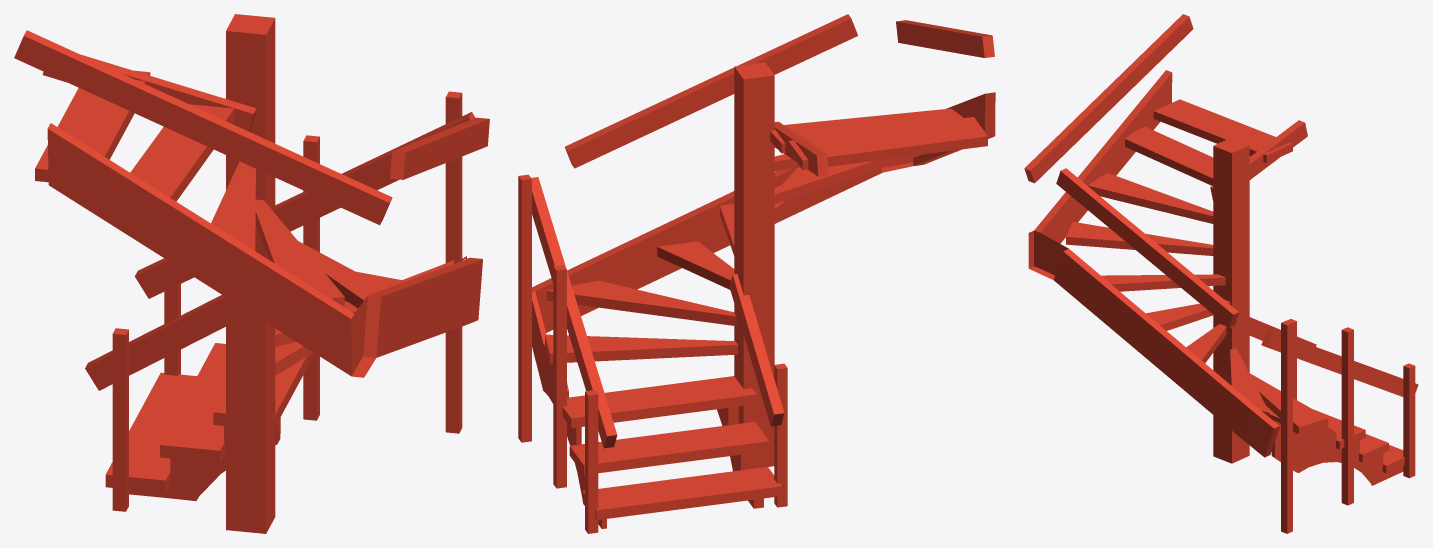
The model's file is scari_rotund_91c68622.glb.
3 renders of one model, left to right at view 1: azimuth 30°, elevation 25°; view 2: azimuth 150°, elevation 25°; view 3: azimuth 270°, elevation 25°, orthographic. The views are drawn at different scales.
Visible parts, largest first — view 1: Cube.287, Cube.283, Cube.296, Cube.279, Cube.280, Cube.294, Cube.300, Cube.297, Cube.293, Cube.299, Cube.295, Cube.302 (+9 smaller); view 2: Cube.283, Cube.287, Cube.295, Cube.279, Cube.280, Cube.299, Cube.281, Cube.294, Cube.300, Cube.286, Cube.285, Cube.303 (+10 smaller); view 3: Cube.287, Cube.283, Cube.295, Cube.296, Cube.299, Cube.282, Cube.300, Cube.293, Cube.292, Cube.303, Cube.294, Cube.291 (+11 smaller).
Boxes of the visible parts, x1,y1,x2,y2 form: Cube.287: (47, 123, 482, 377); Cube.283: (226, 14, 275, 533); Cube.296: (14, 30, 392, 225); Cube.279: (105, 372, 196, 492); Cube.280: (160, 343, 225, 463); Cube.294: (135, 112, 475, 298); Cube.300: (445, 91, 462, 433); Cube.297: (85, 295, 225, 390); Cube.293: (130, 98, 238, 201); Cube.299: (35, 70, 150, 182); Cube.295: (390, 117, 489, 179); Cube.302: (112, 328, 128, 511); Cube.283: (734, 62, 774, 468); Cube.287: (532, 92, 995, 332); Cube.295: (565, 14, 857, 168); Cube.279: (582, 467, 782, 519); Cube.280: (569, 422, 769, 474); Cube.299: (788, 117, 987, 169); Cube.281: (562, 376, 756, 428); Cube.294: (531, 177, 617, 448); Cube.300: (518, 174, 531, 442); Cube.286: (546, 280, 736, 326); Cube.285: (545, 334, 737, 363); Cube.303: (553, 265, 566, 488); Cube.287: (1028, 70, 1279, 457); Cube.283: (1213, 138, 1249, 463); Cube.295: (1056, 168, 1238, 327); Cube.296: (1024, 14, 1193, 183); Cube.299: (1153, 99, 1292, 163); Cube.282: (1271, 419, 1403, 485); Cube.300: (1281, 320, 1292, 533); Cube.293: (1125, 126, 1213, 185); Cube.292: (1088, 173, 1213, 223); Cube.303: (1341, 327, 1353, 505); Cube.294: (1261, 329, 1418, 396); Cube.291: (1066, 222, 1213, 255).
Bounding box in the file's own units: 226 × 233 × 230.
